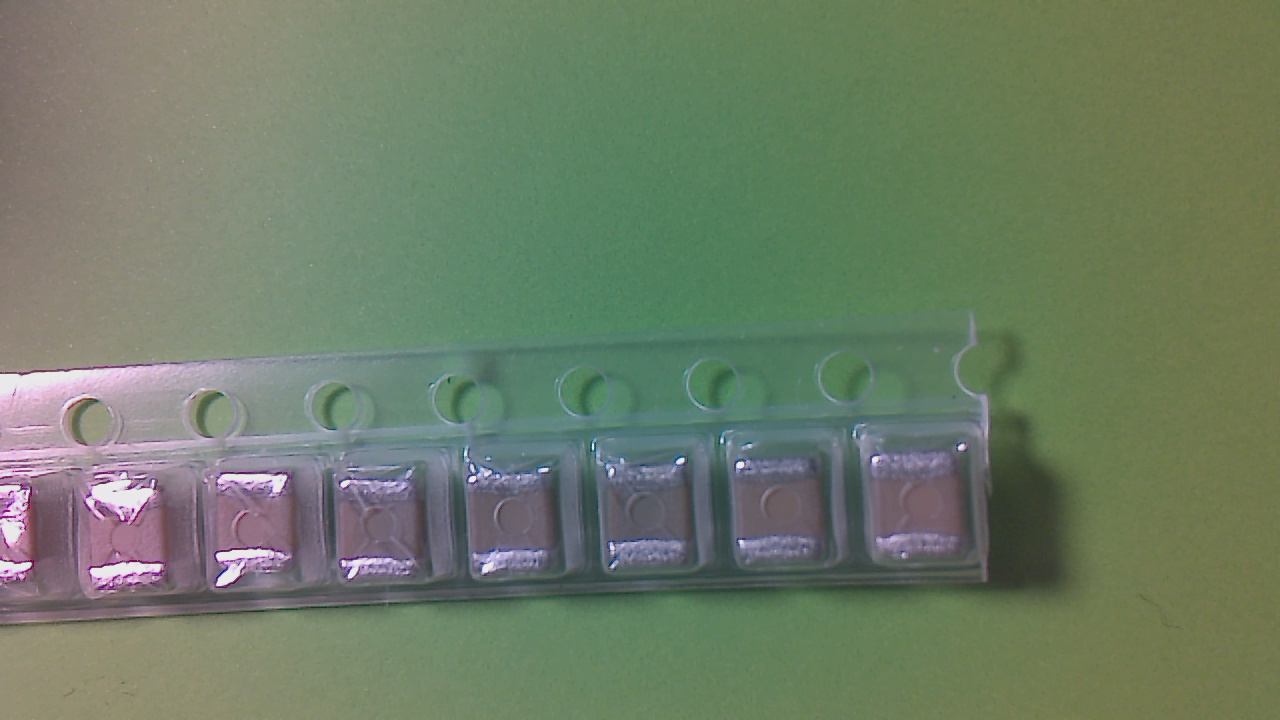Condensator: (741, 462, 833, 567), (878, 453, 969, 558), (607, 463, 696, 565), (474, 476, 558, 579), (342, 480, 424, 585), (218, 479, 301, 582), (92, 490, 174, 591)
